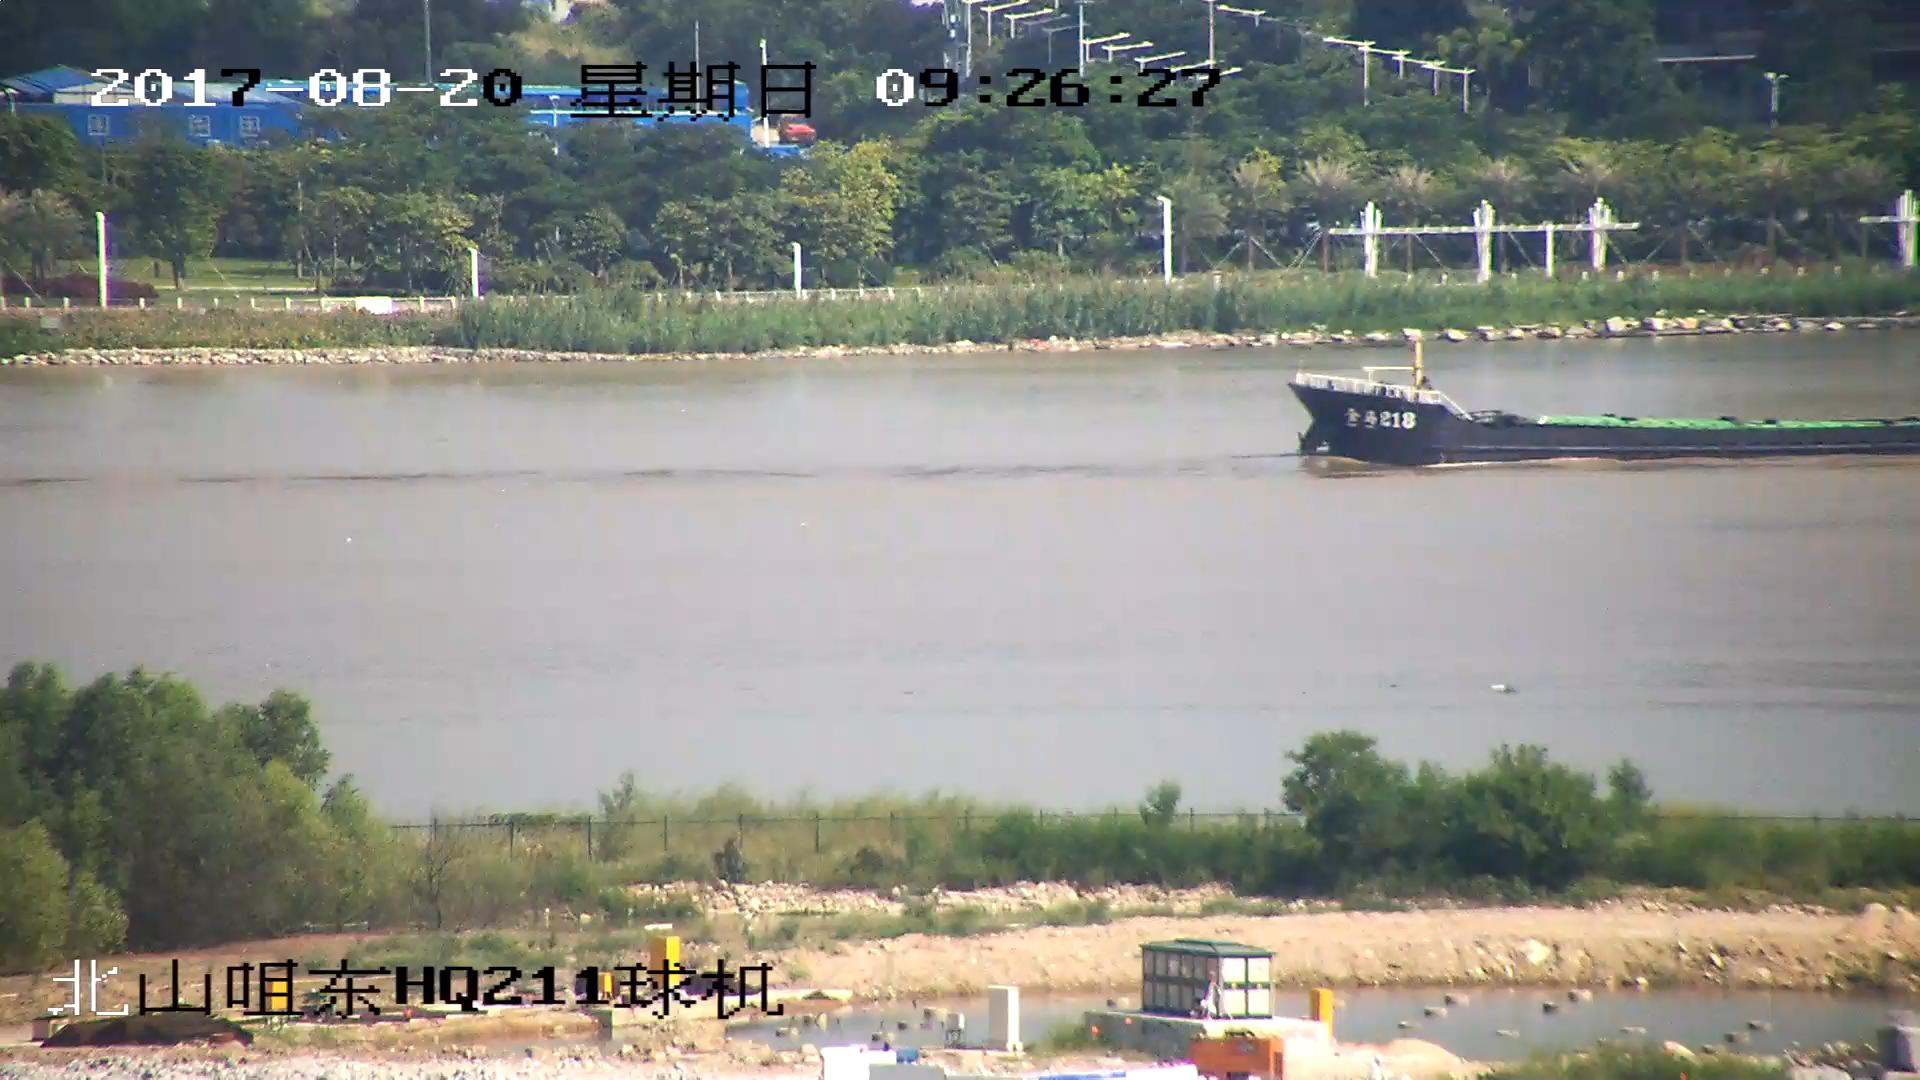general cargo ship: (1297, 362, 1920, 453)
